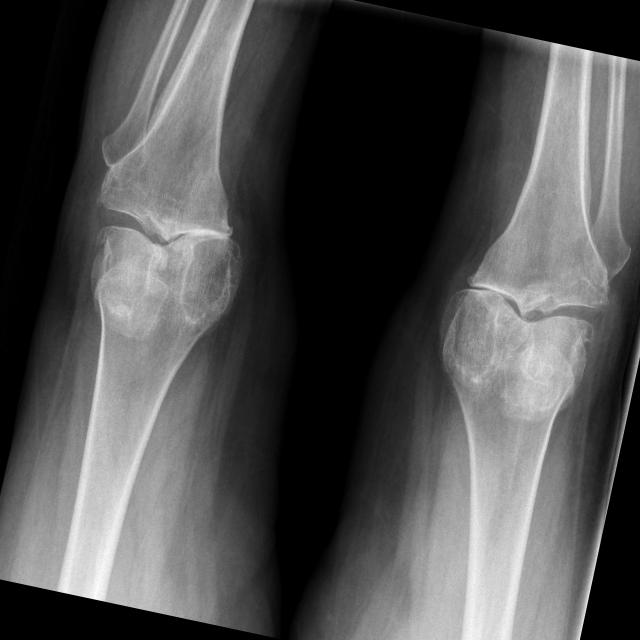Knee: (73, 149, 260, 341), (428, 228, 618, 416)
